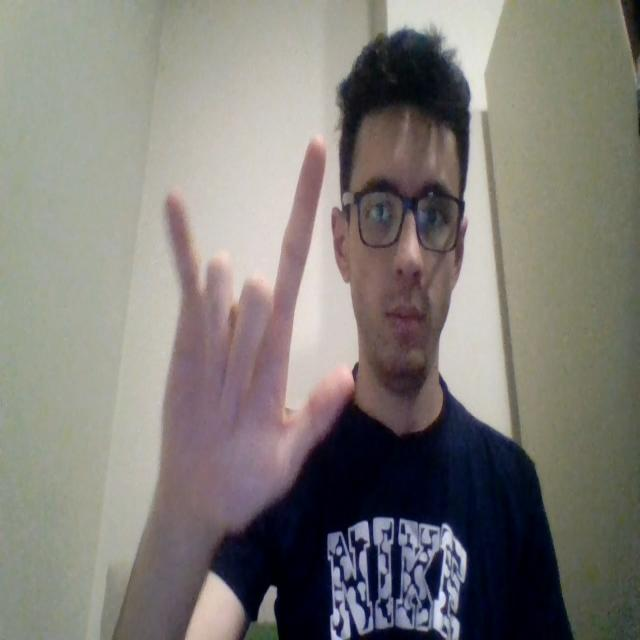iloveyou: (158, 133, 356, 520)
